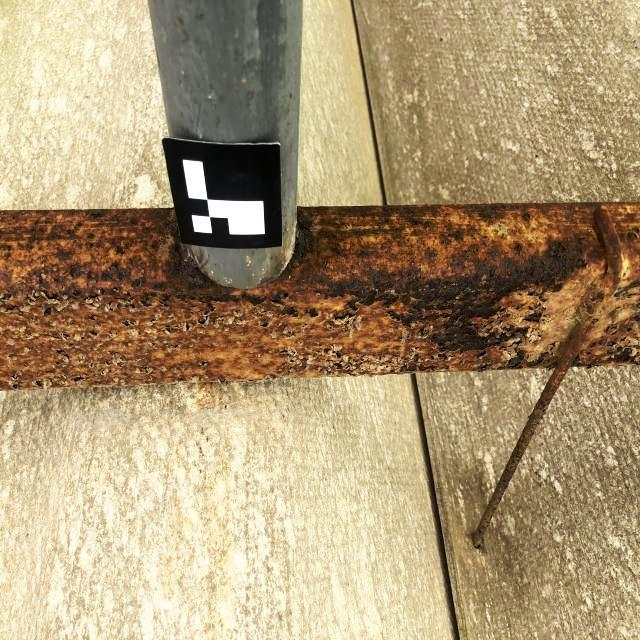Corrosion: (0, 201, 640, 546)
